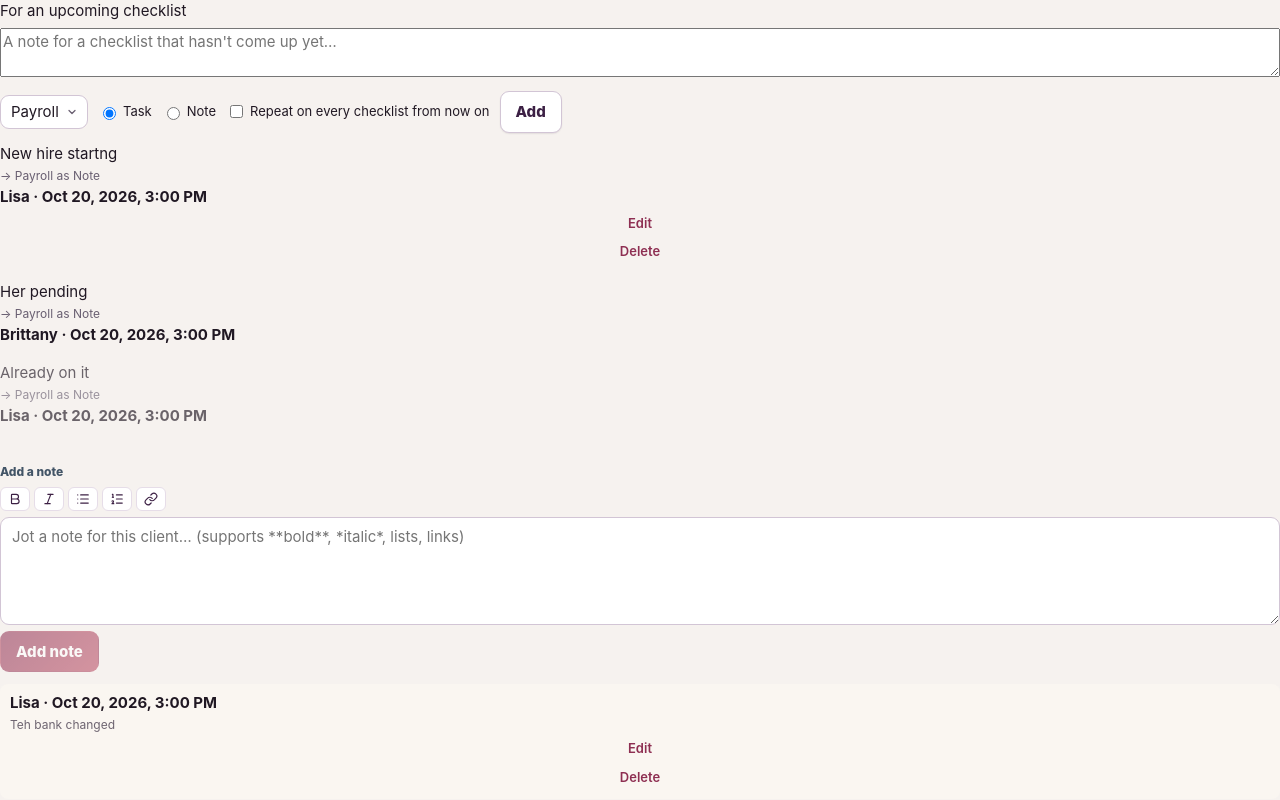
Test: the notes log › save sends the new words and shows the note with an "edited" marker
The width and height of the screenshot is (1280, 800).
Expected: the list item "Teh bank changed" is shown, [10, 717, 115, 732]
Click the button "Edit" below "Teh bank changed" at (640, 749), box [10, 735, 1270, 762]
(page scrolled)
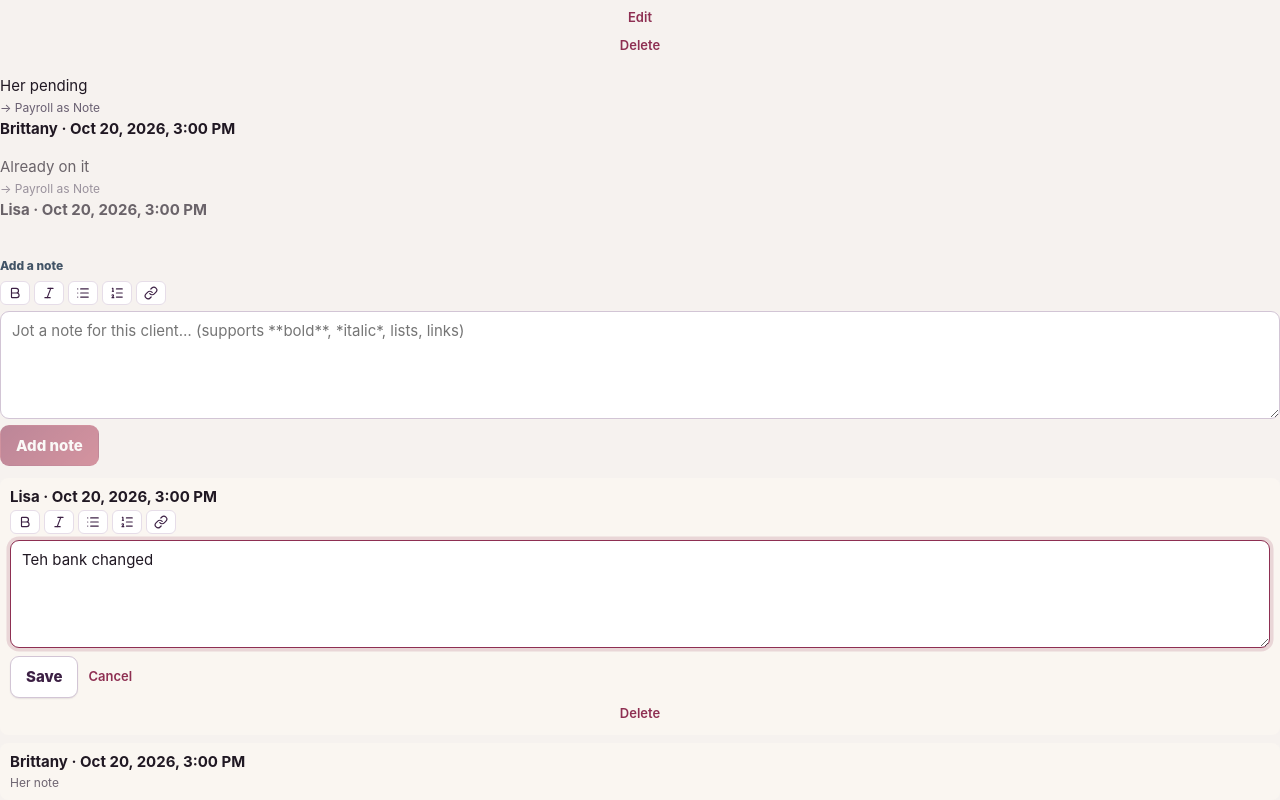
Now the text box named "Edit note" holds "Teh bank changed"
Replace the text in the text box named "Edit note" with "The bank changed" at (640, 594), box [10, 540, 1270, 648]
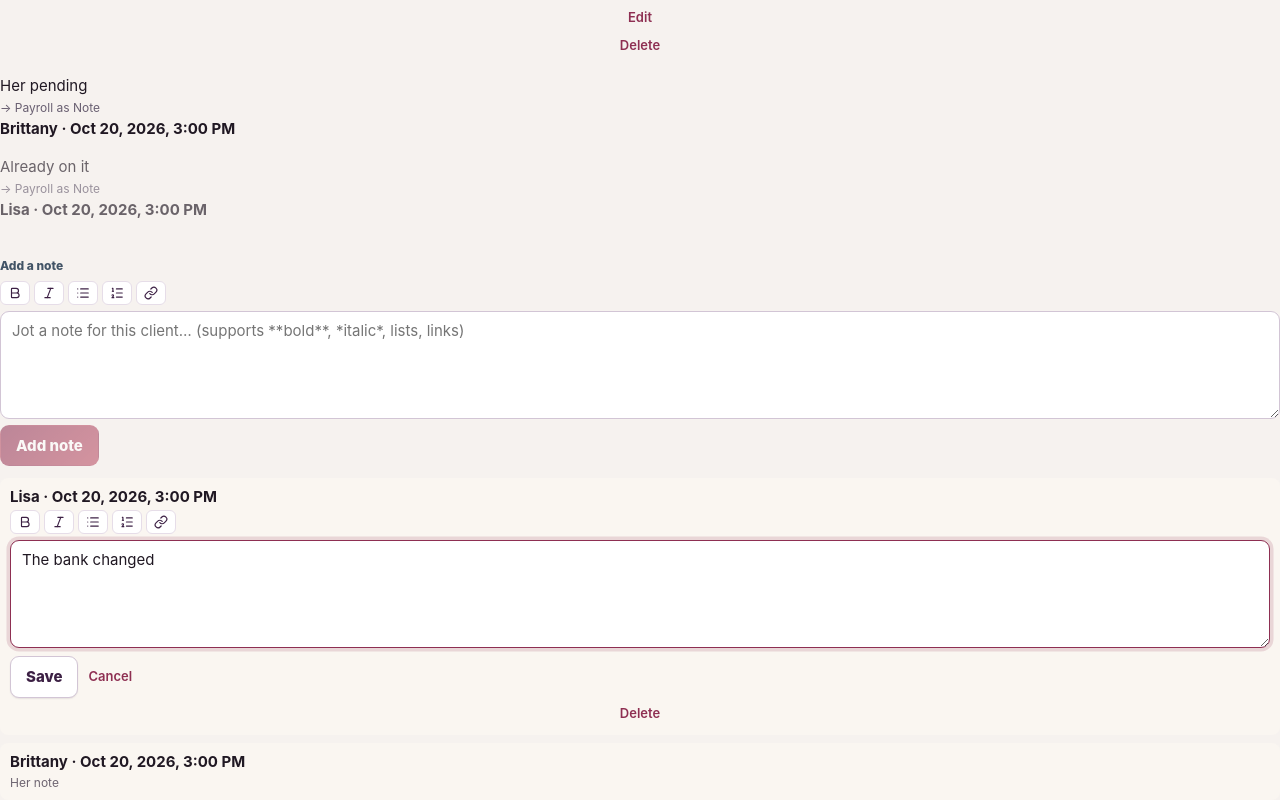
Click the button "Save" at (44, 677), box [10, 656, 78, 698]
(page scrolled)
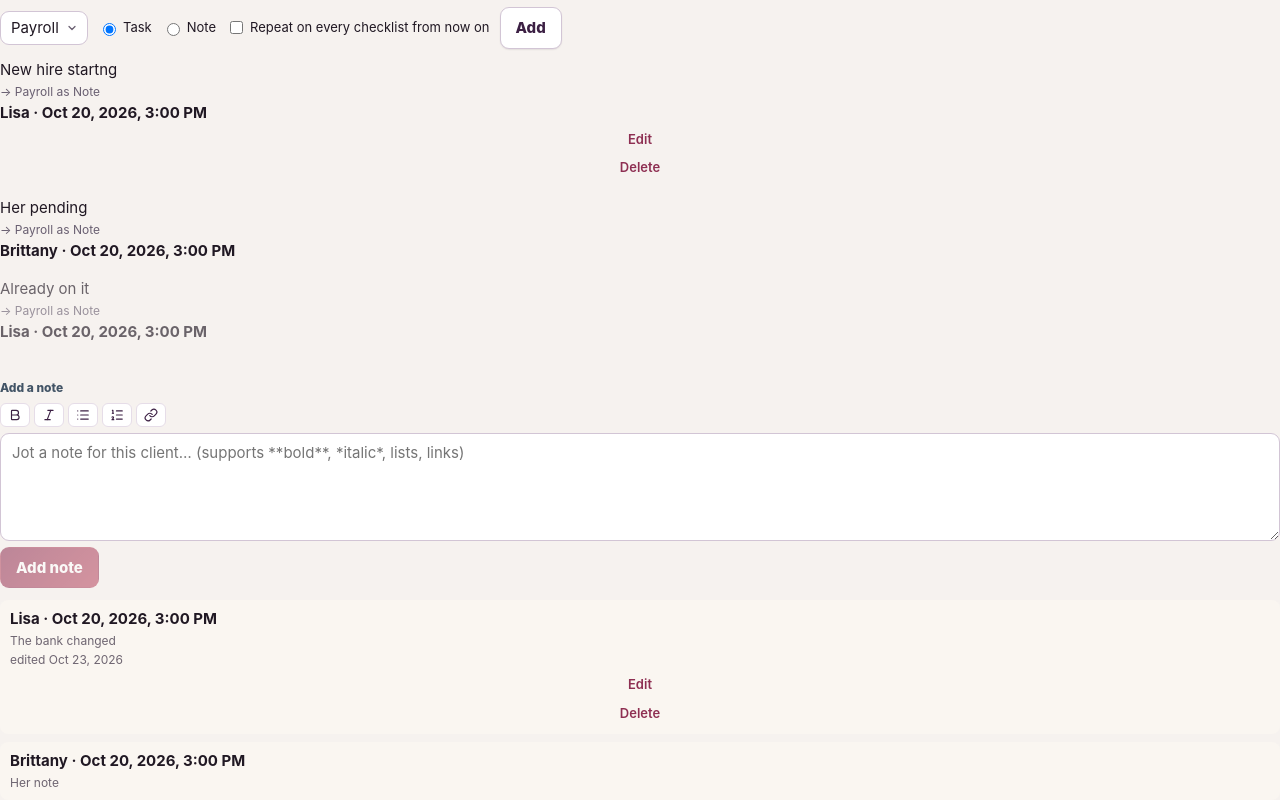
Expected: the list item "Teh bank changed" is shown, [0, 600, 1279, 734]
Now the text "edited Oct 23, 2026" is shown, box [10, 652, 123, 667]
